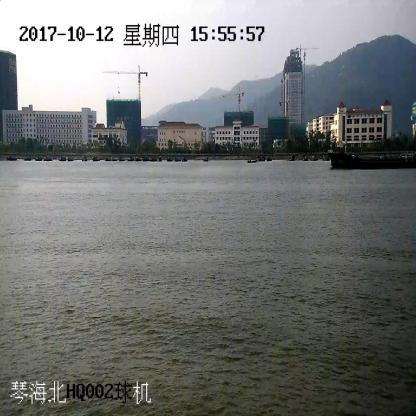Bulk Carrier: (327, 148, 416, 170)
